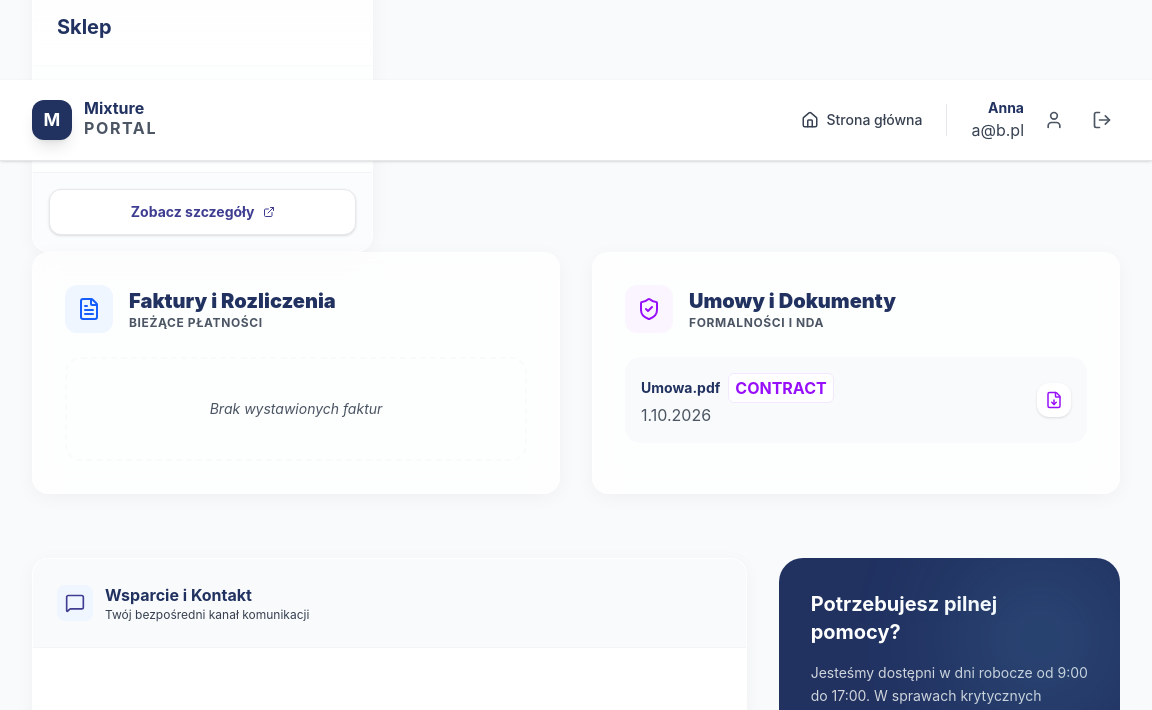
Test: Portal: błędy nie są już ciche › pobieranie dokumentu z 404 pokazuje komunikat
This screenshot has width=1152, height=710.
(page scrolled)
What coordinates should you click on to do the following:
click the button named "Pobierz dokument: Umowa.pdf"
I would click on:
 (1054, 400)
Its box is [1037,383,1071,417].
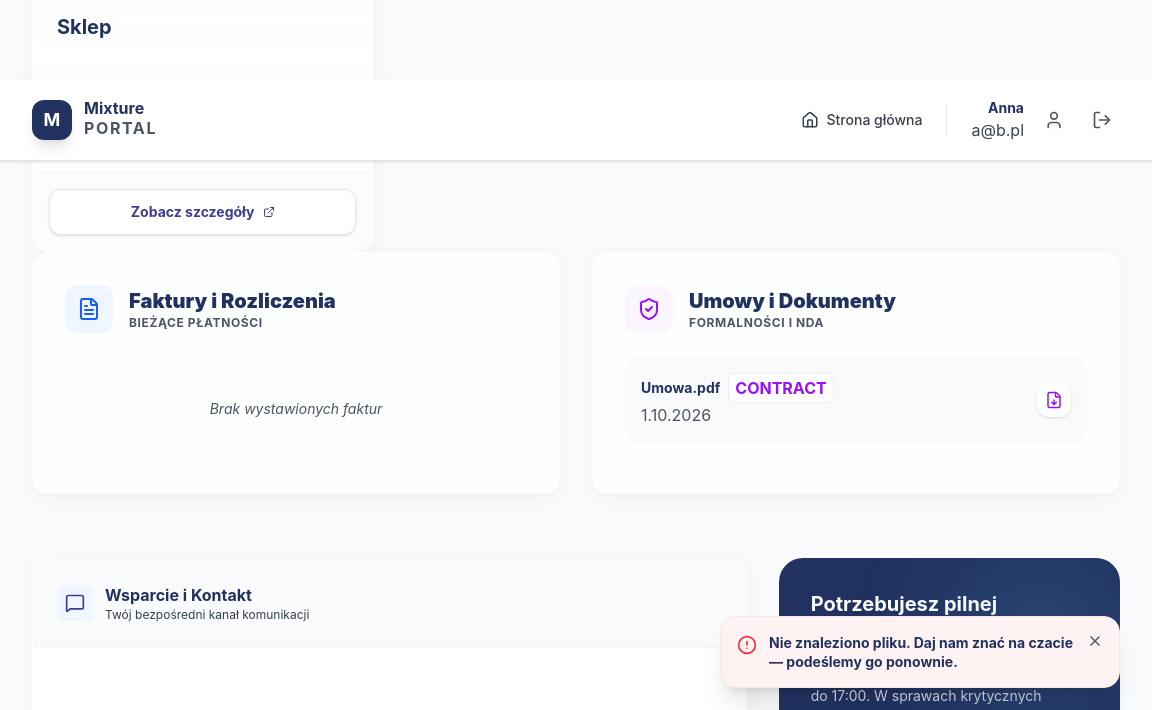
Now the text "Nie znaleziono pliku" is shown, box [769,634,1073,670]
